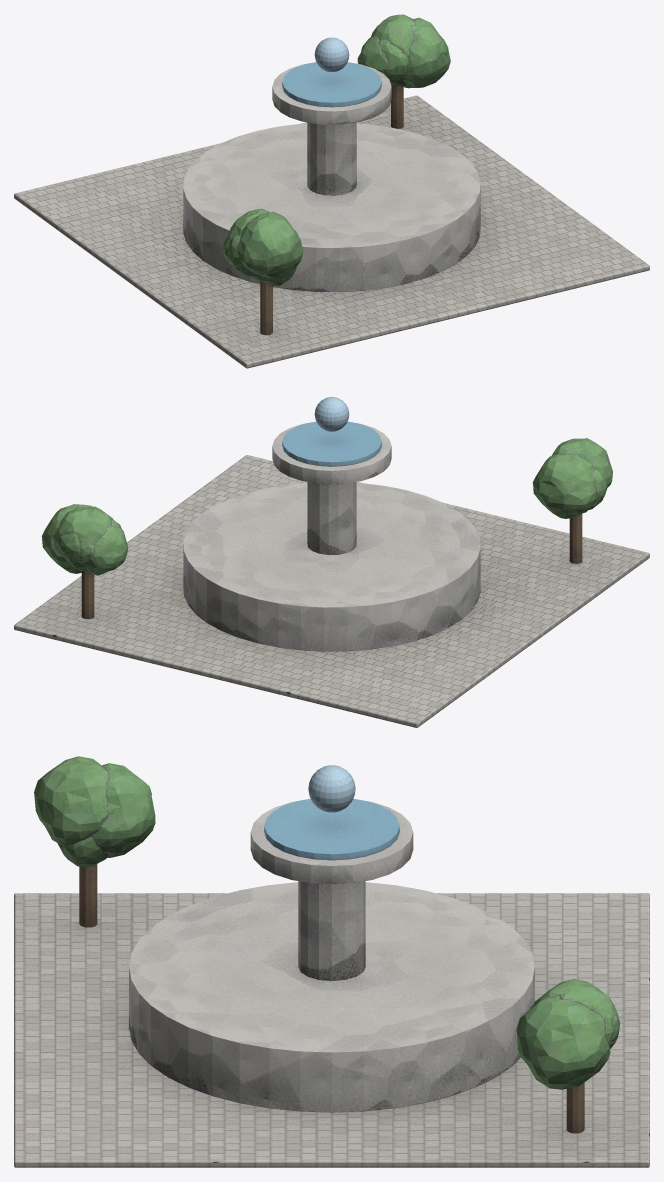
The model's file is brunnen.glb.
The picture shows the model from 3 angles, top to bottom: view 1: azimuth 30°, elevation 25°; view 2: azimuth 150°, elevation 25°; view 3: azimuth 270°, elevation 25°; orthographic projection. The views are drawn at different scales.
Visible parts, largest first — view 1: brunnen; view 2: brunnen; view 3: brunnen.
Part boxes in pixels (x1,y1,x2,y2): brunnen: [14, 14, 649, 368]; brunnen: [14, 397, 649, 727]; brunnen: [14, 756, 649, 1167].
Size of the model in its own units: 0.94 by 0.435 by 0.94.
Materials: 1 (1 with a texture image).
